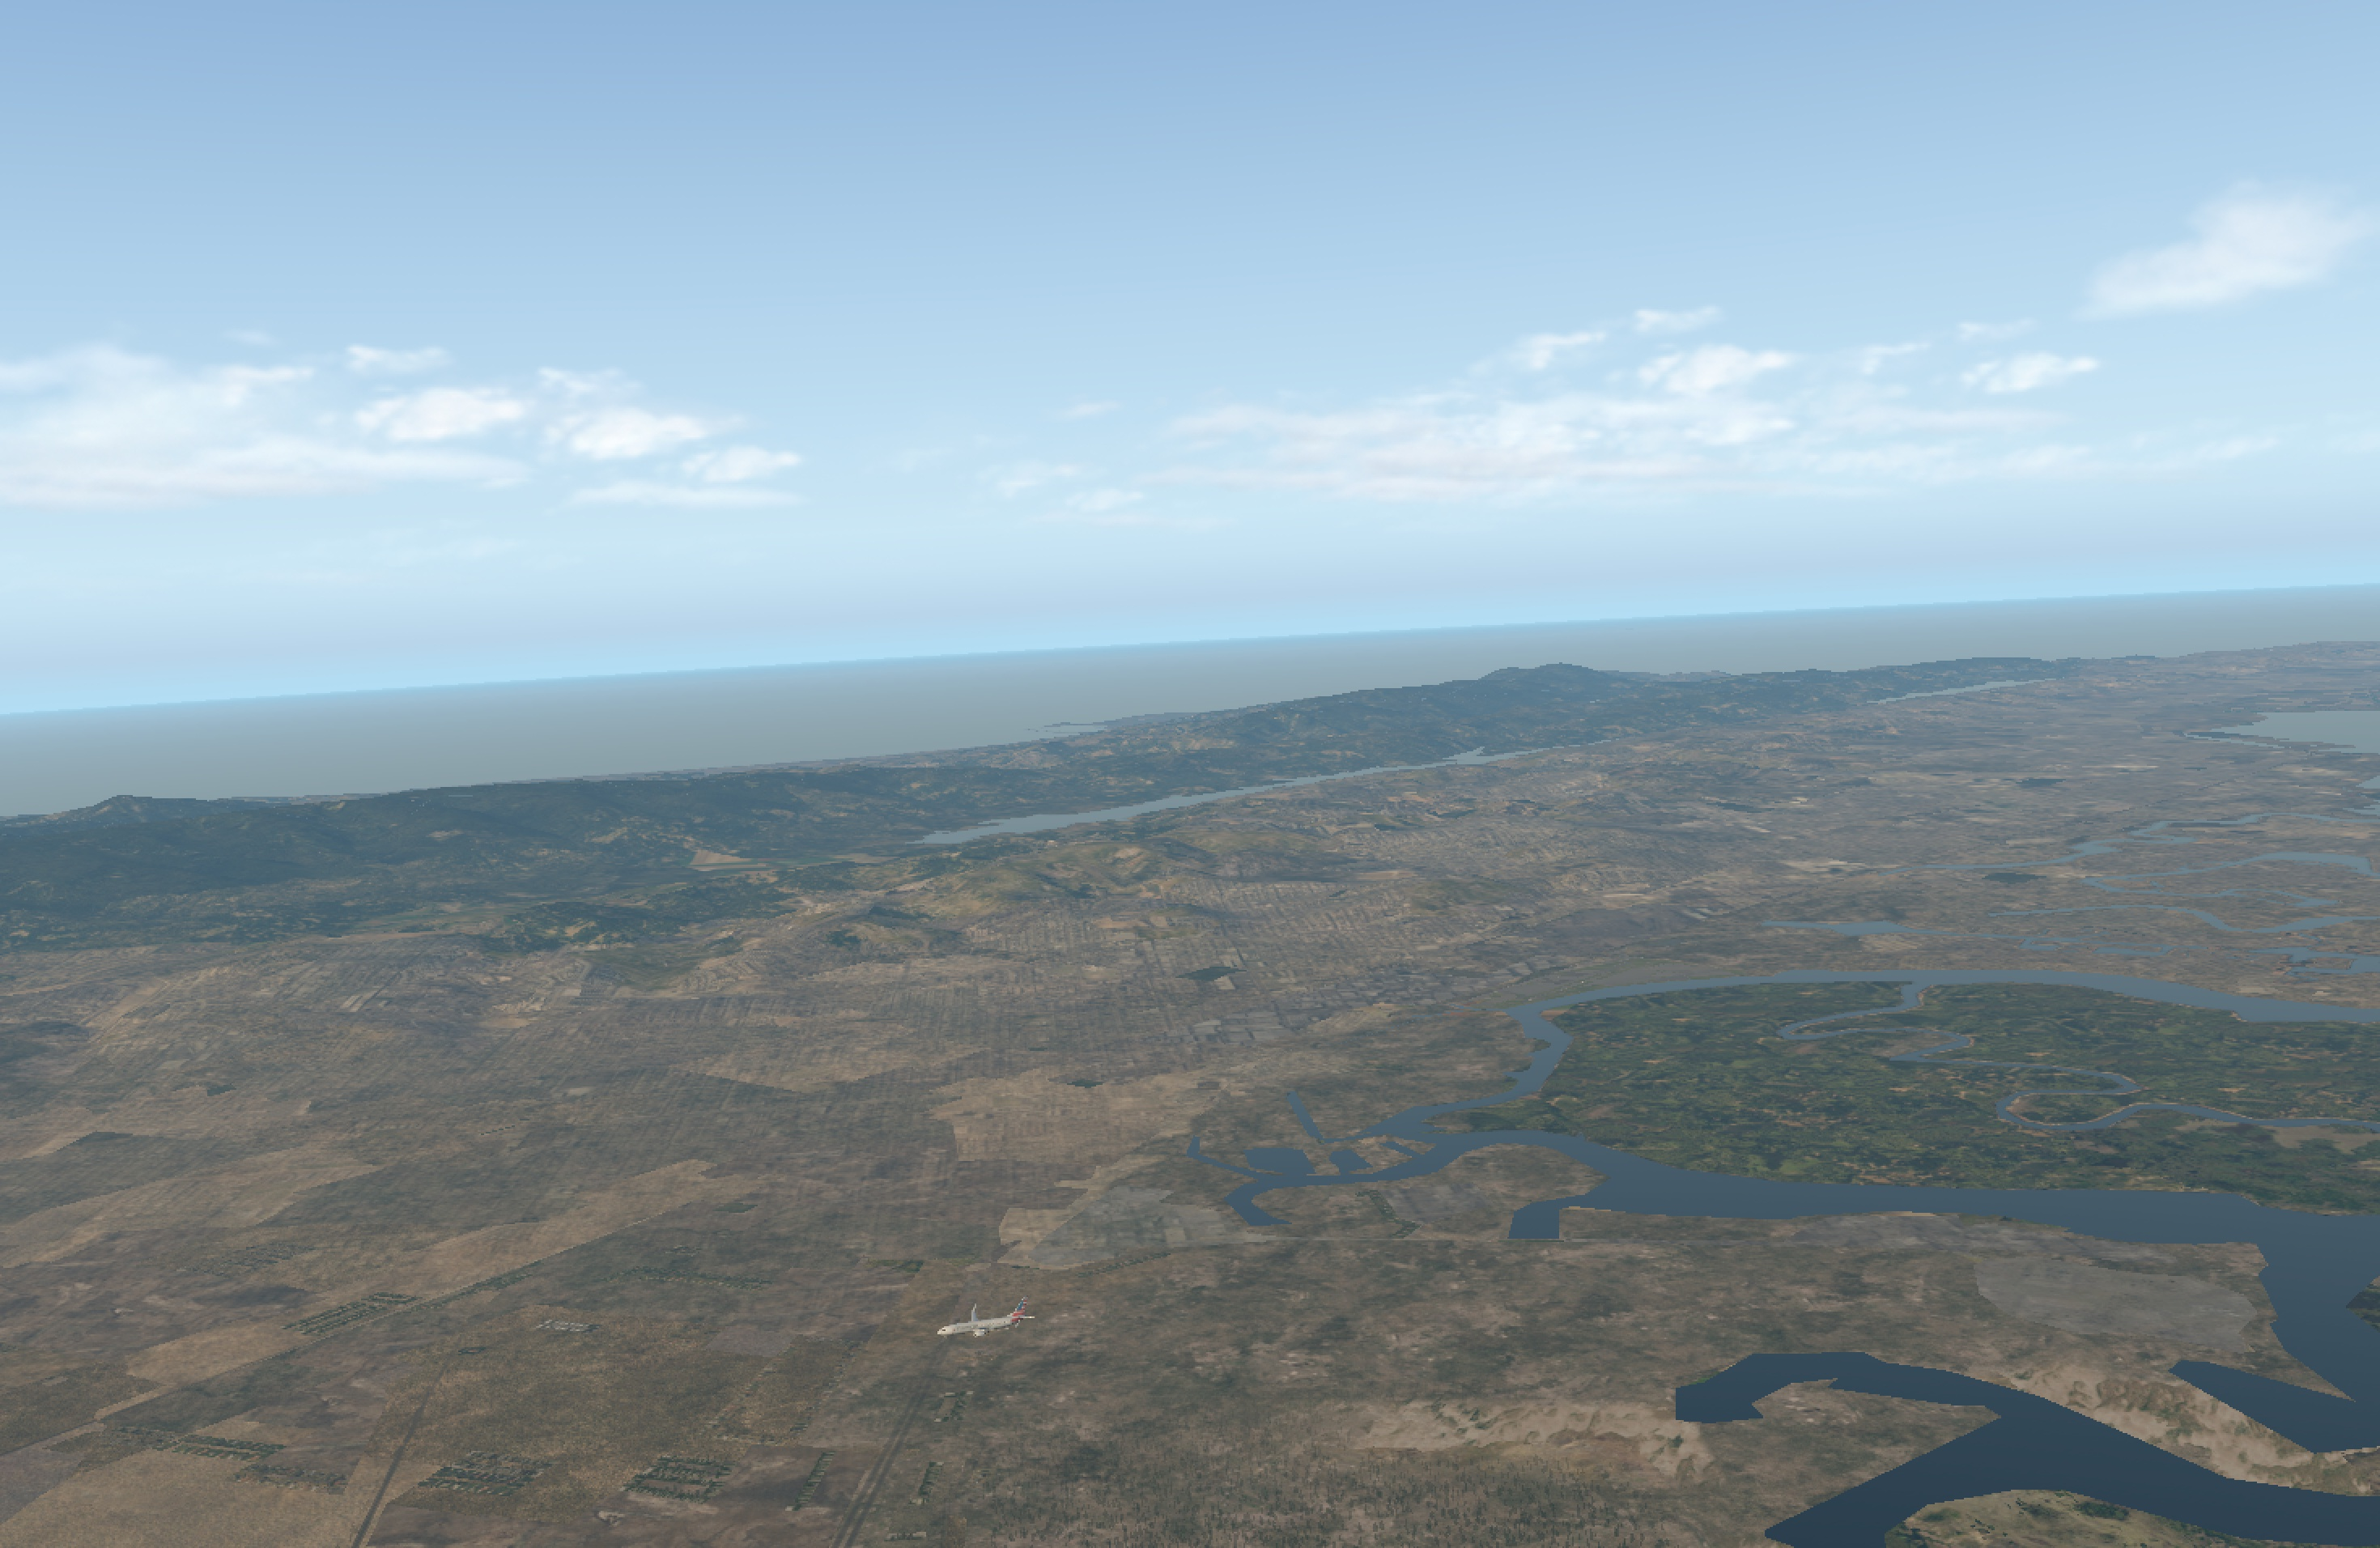aircraft: (930, 1309, 1030, 1347)
